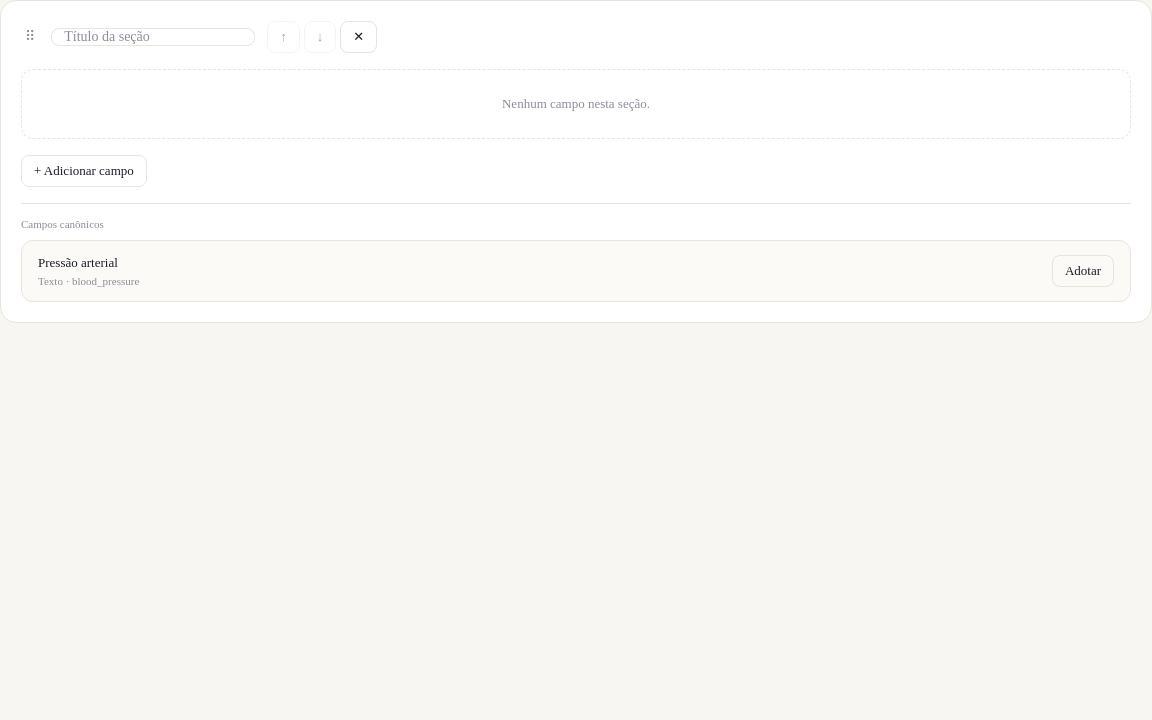
Test: SectionEditor (integration) › adopts a canonical field, appending it to the fields list
Click the button with test id "canonical-field-picker-adopt-canon-1" at coordinates (1083, 271), box [1052,255,1114,287]
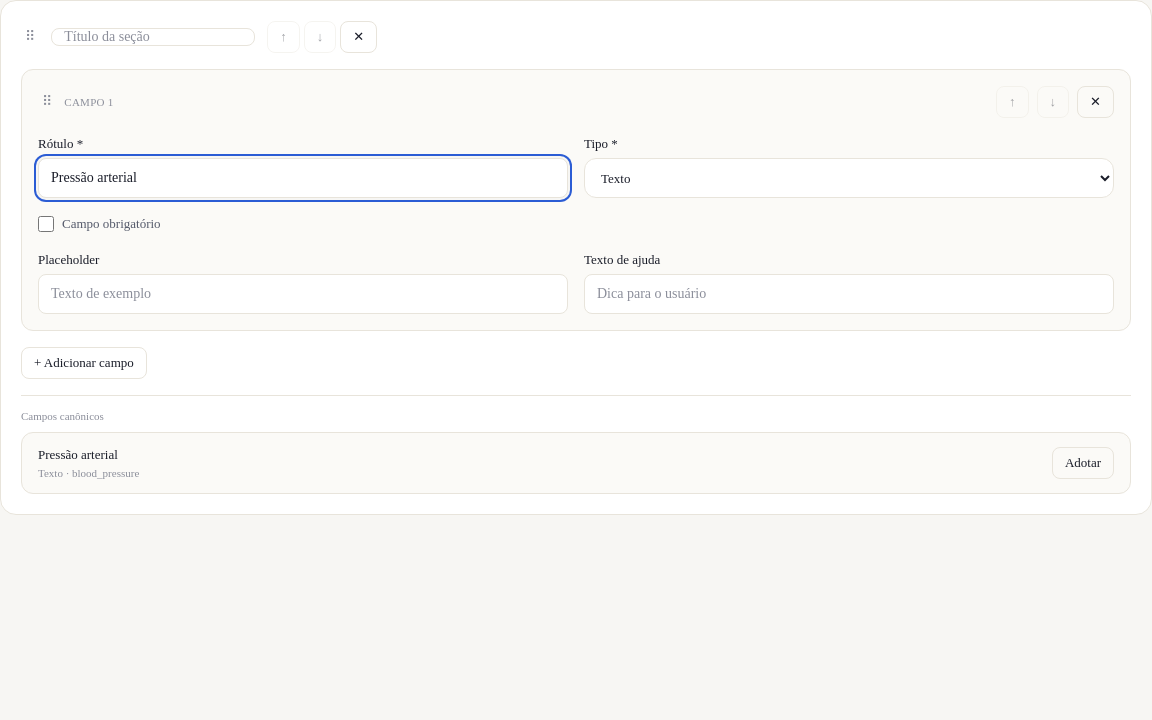
Check: the element with test id "field-editor-0" is shown, box [21,69,1131,331]
Check: the field with test id "field-editor-label-0" holds "Pressão arterial", box [38,158,568,198]
